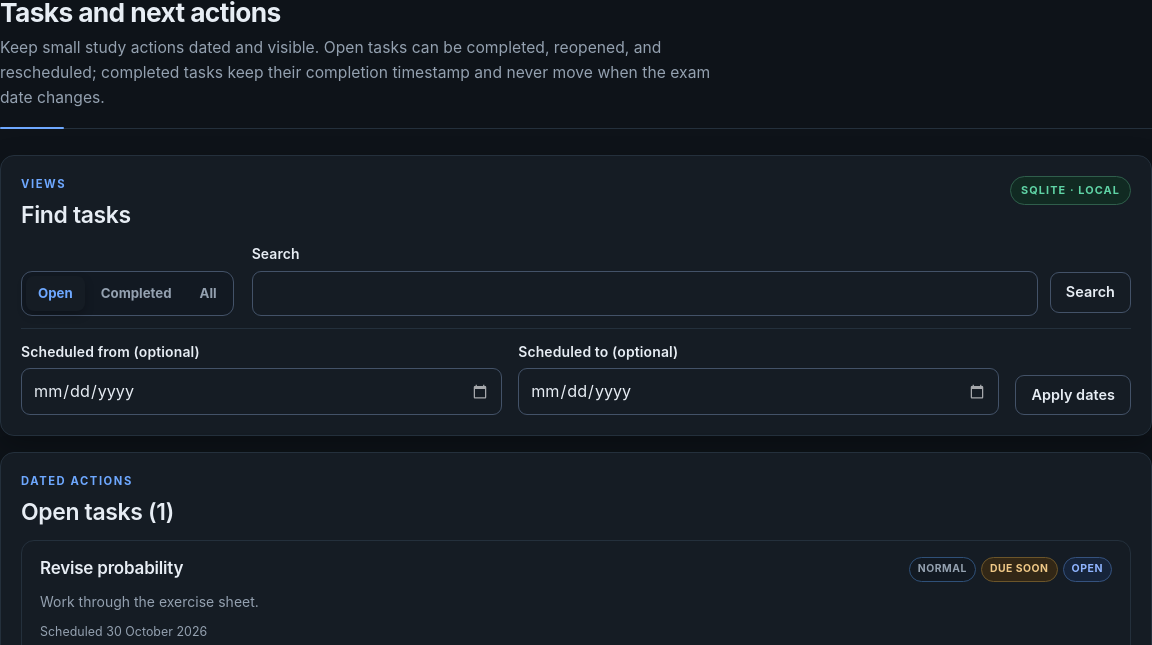
Scenario: checklist screen › completes and reopens a task without losing the completion timestamp
This screenshot has width=1152, height=645.
Expected: the heading "Revise probability" is shown, [40,557,183,580]
Click the button "All" at (208, 293), box [188,276,229,311]
(page scrolled)
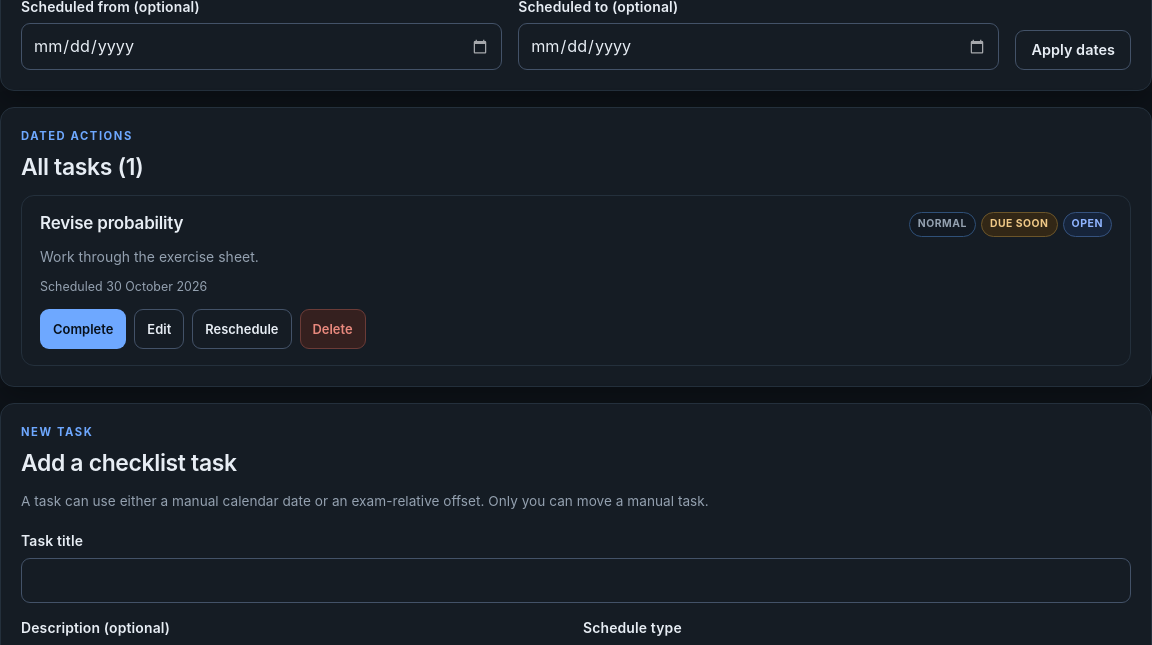
Expected: the heading "Revise probability" is shown, [40,212,183,235]
Click the button "Complete" at (83, 330), box [40,310,126,350]
(page scrolled)
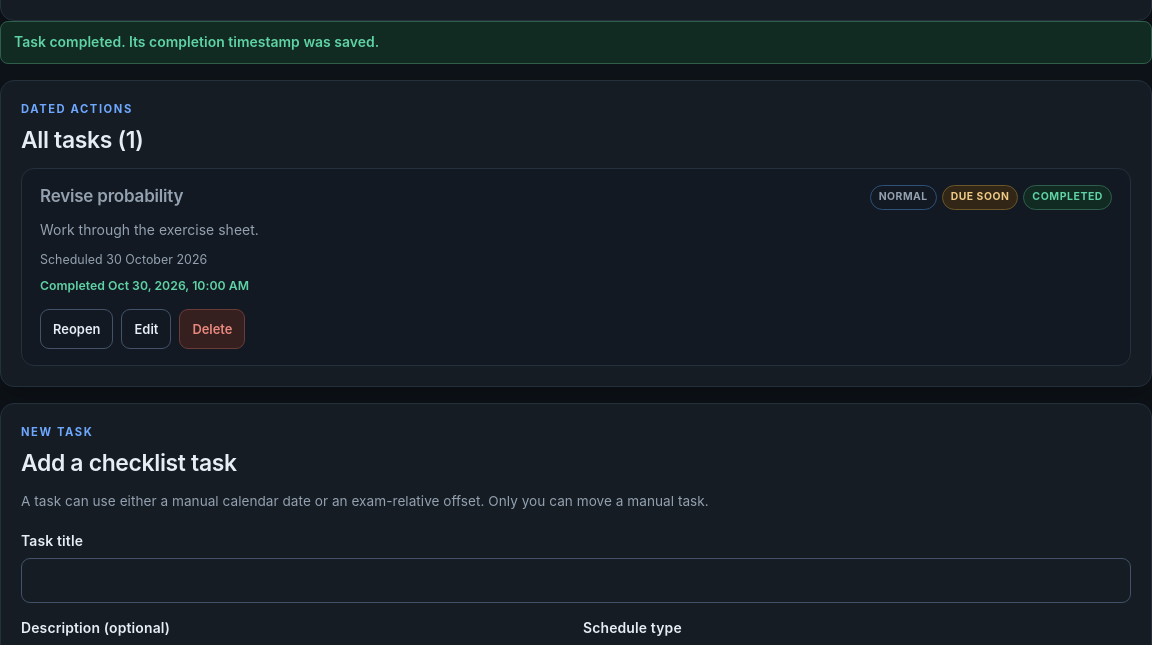
Expected: the text "Task completed. Its completion timestamp was saved." is shown, [0,21,1151,64]
Click the button "Reopen" at (77, 329), box [40,309,114,349]
(page scrolled)
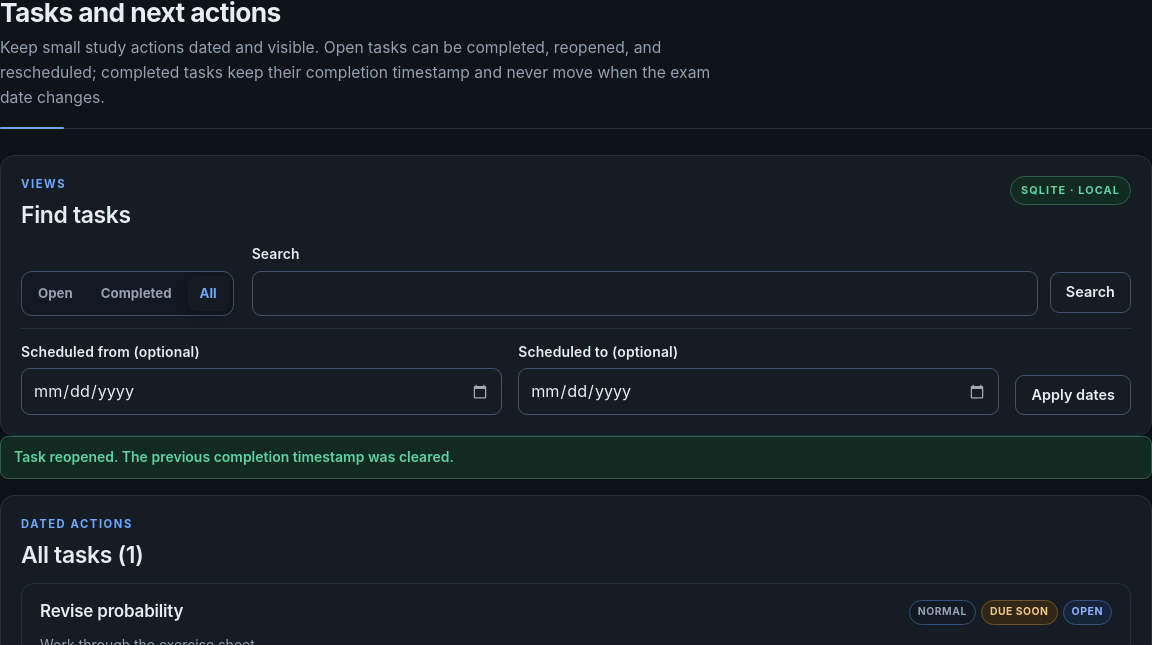
Expected: the text "Task reopened. The previous completion timestamp was cleared." is shown, [0,436,1151,479]
